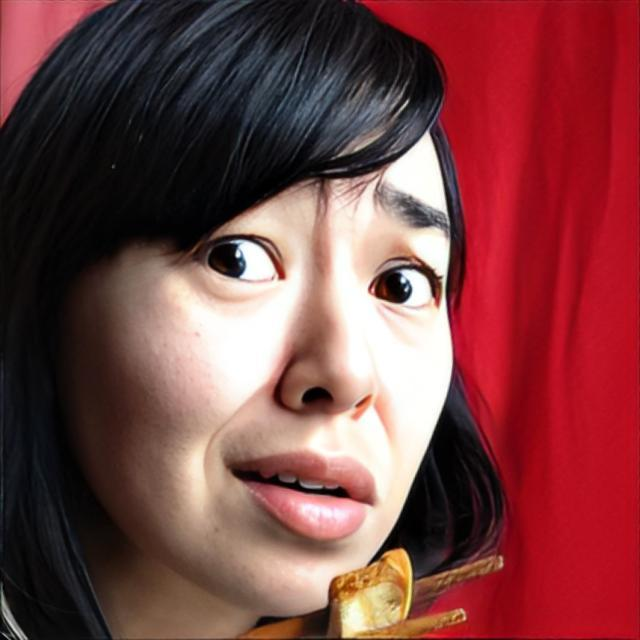fear: (59, 73, 456, 618)
